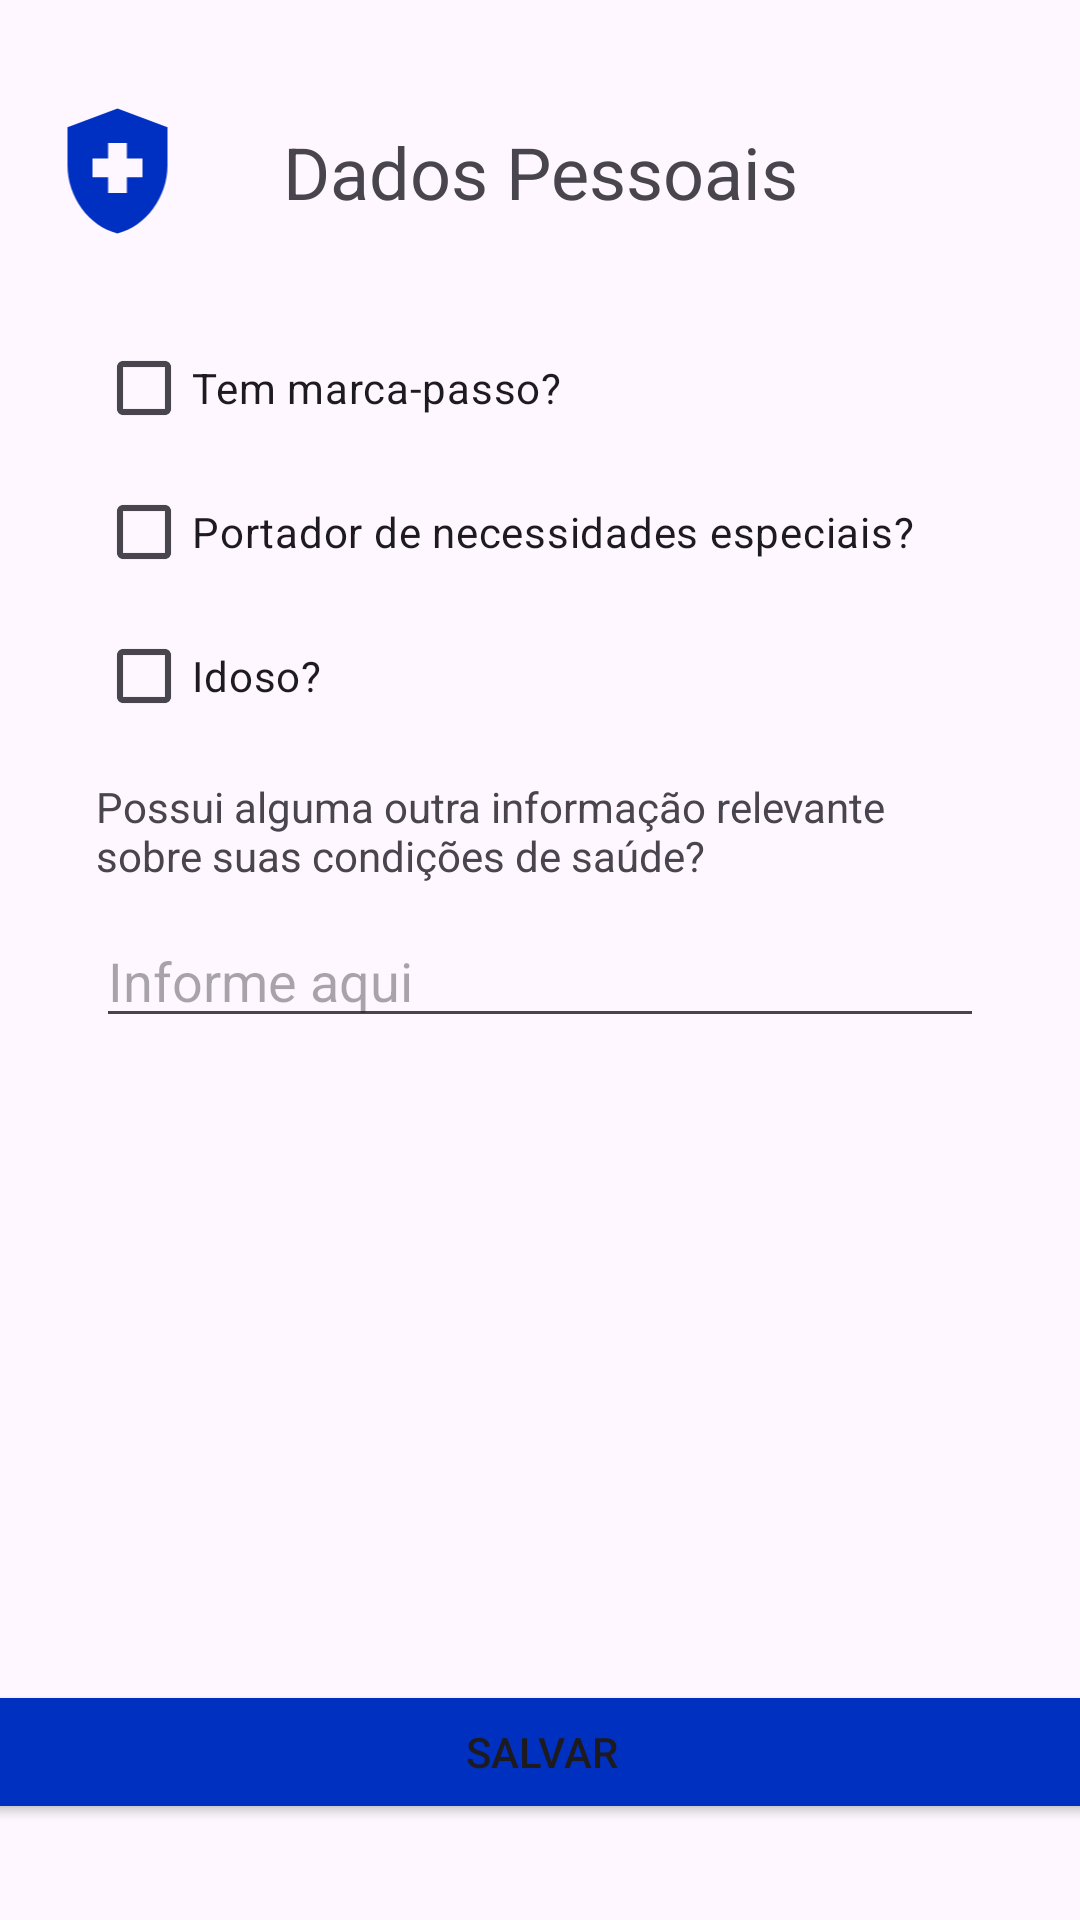

Where to tap for icons on this 1080 × 1920 app screen, as (x=x, y=y):
health and safety: (x=117, y=171)
